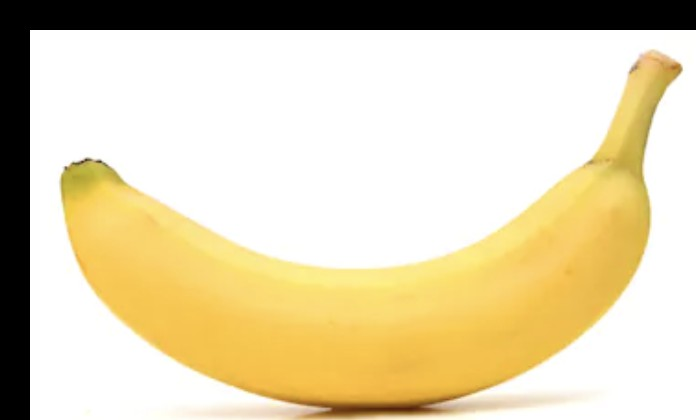fresh_banana: (60, 51, 684, 407)
